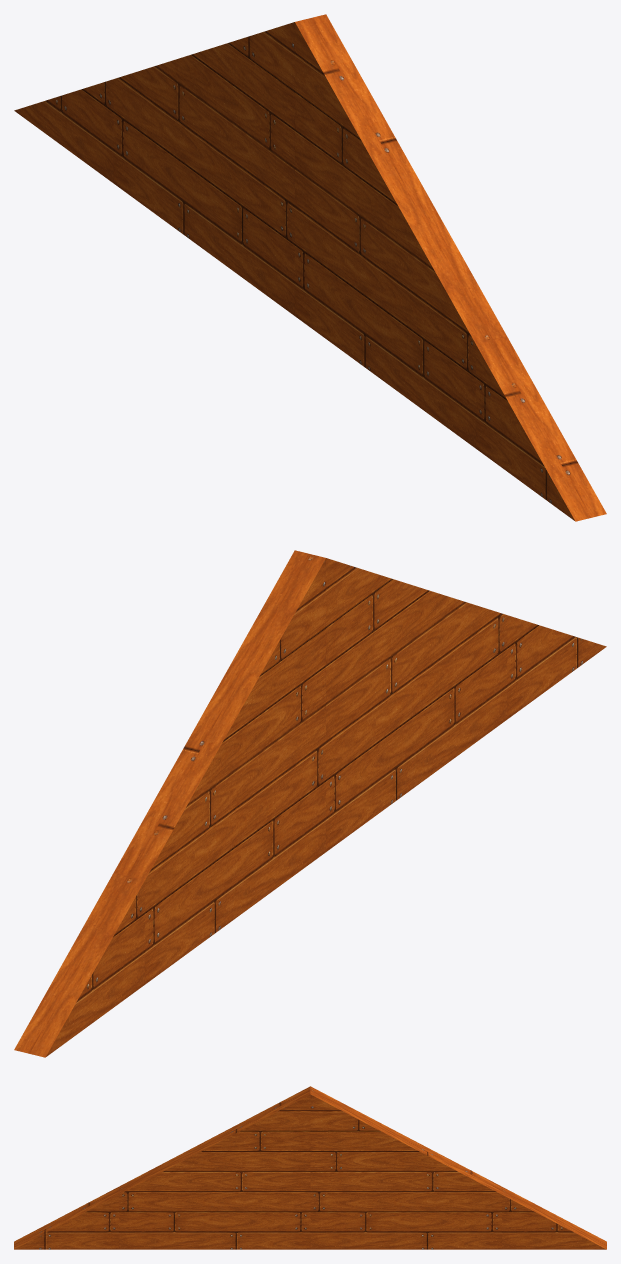
File: Roof3_GableEnd.fbx
3 views of the same model, one above another, from view 1: azimuth 30°, elevation 25°; view 2: azimuth 150°, elevation 25°; view 3: azimuth 270°, elevation 25° (orthographic). The views are drawn at different scales.
Visible parts, largest first — view 1: Roof3_GableEnd; view 2: Roof3_GableEnd; view 3: Roof3_GableEnd.
Boxes of the visible parts, bbox=[...] form: Roof3_GableEnd: bbox=[14, 14, 606, 521]; Roof3_GableEnd: bbox=[14, 550, 606, 1057]; Roof3_GableEnd: bbox=[14, 1086, 606, 1249].
Size of the model in its own units: 0.1 by 0.896 by 3.1.
